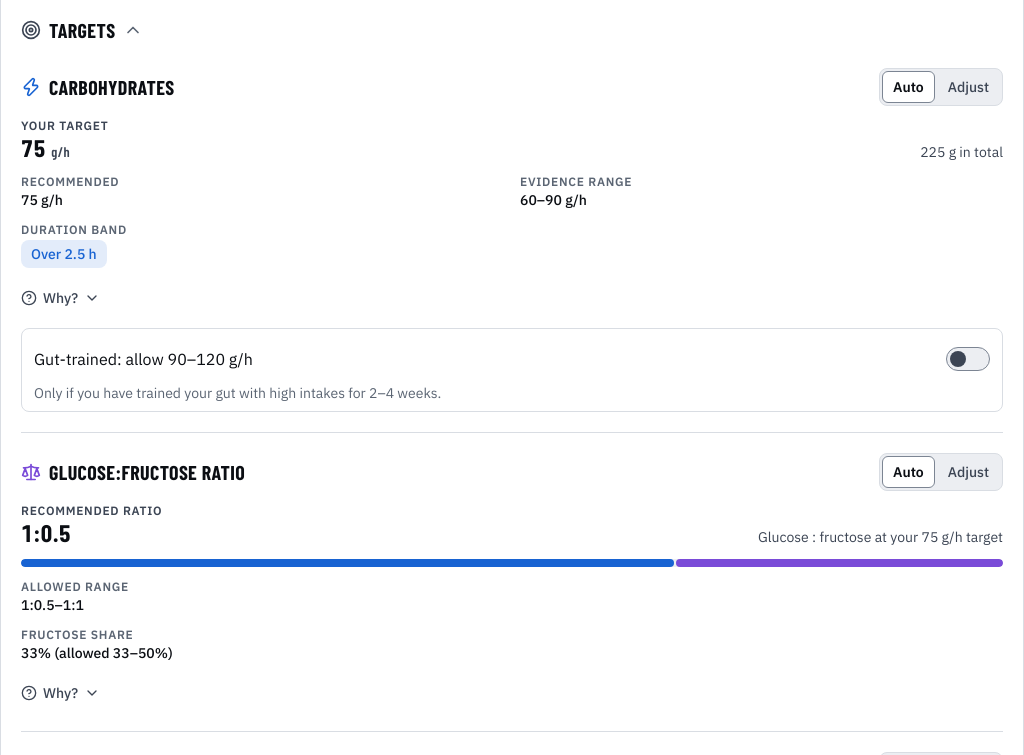
Test case: TargetsSection: ratio in Auto mode › reveals the explanation and citation links behind "Why?"
What coordinates should you click on to do the following:
click the button "Why?" below "33%"
I would click on:
 (60, 693)
Its box is [21,675,100,711].
(page scrolled)
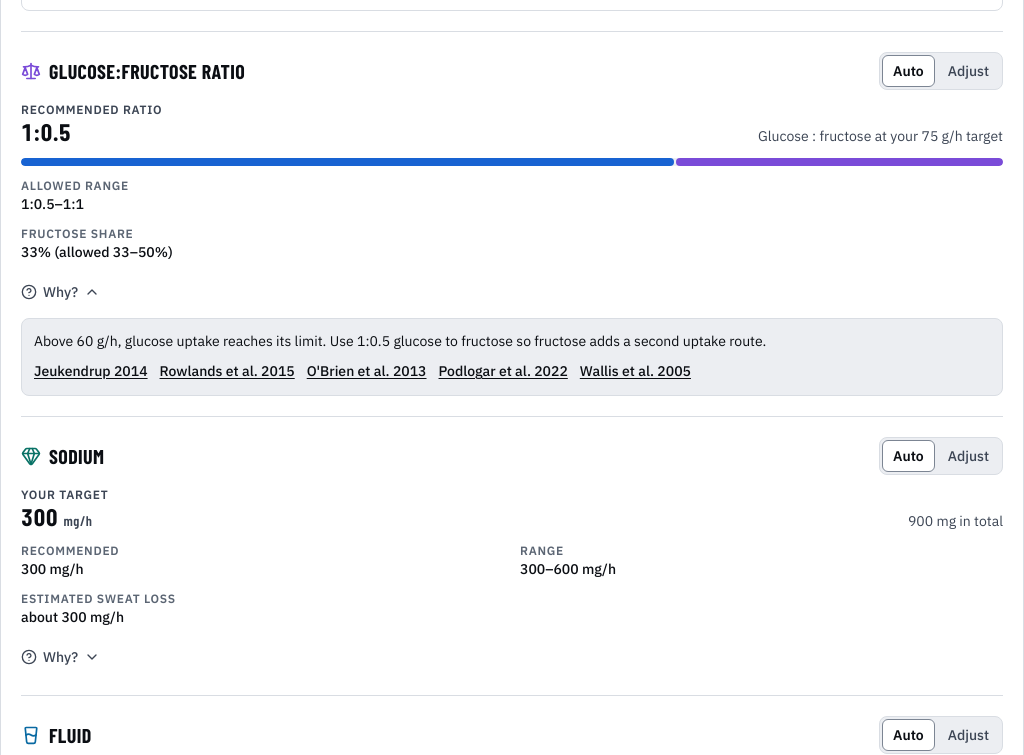
Expected: the button "Why?" below "33%" is expanded, [21,274,100,310]
Expected: the link "Rowlands et al. 2015" is shown, [160,359,295,383]
